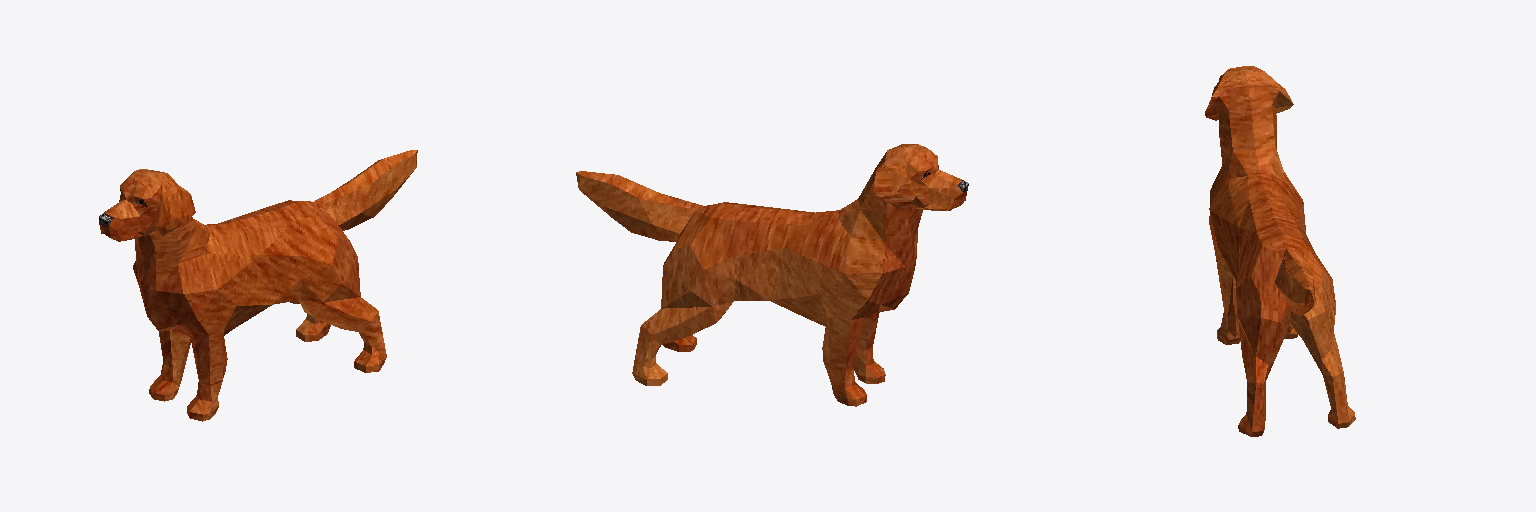
3 views of the same model, side by side, from view 1: azimuth 30°, elevation 25°; view 2: azimuth 150°, elevation 25°; view 3: azimuth 270°, elevation 25° (orthographic).
Parts seen in each view (by area): view 1: Golden:polySurface2; view 2: Golden:polySurface2; view 3: Golden:polySurface2.
Boxes of the visible parts, x1,y1,x2,y2 form: Golden:polySurface2: [99, 150, 417, 421]; Golden:polySurface2: [576, 144, 968, 406]; Golden:polySurface2: [1205, 66, 1355, 436].
Bounding box in the file's own units: 2.25 × 1.52 × 0.8306.
Materials: 4 (3 with a texture image).